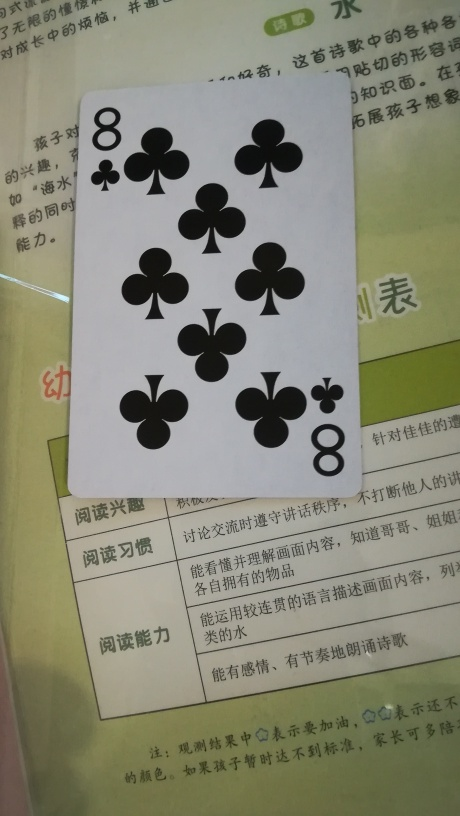mh 8: (63, 71, 366, 498)
